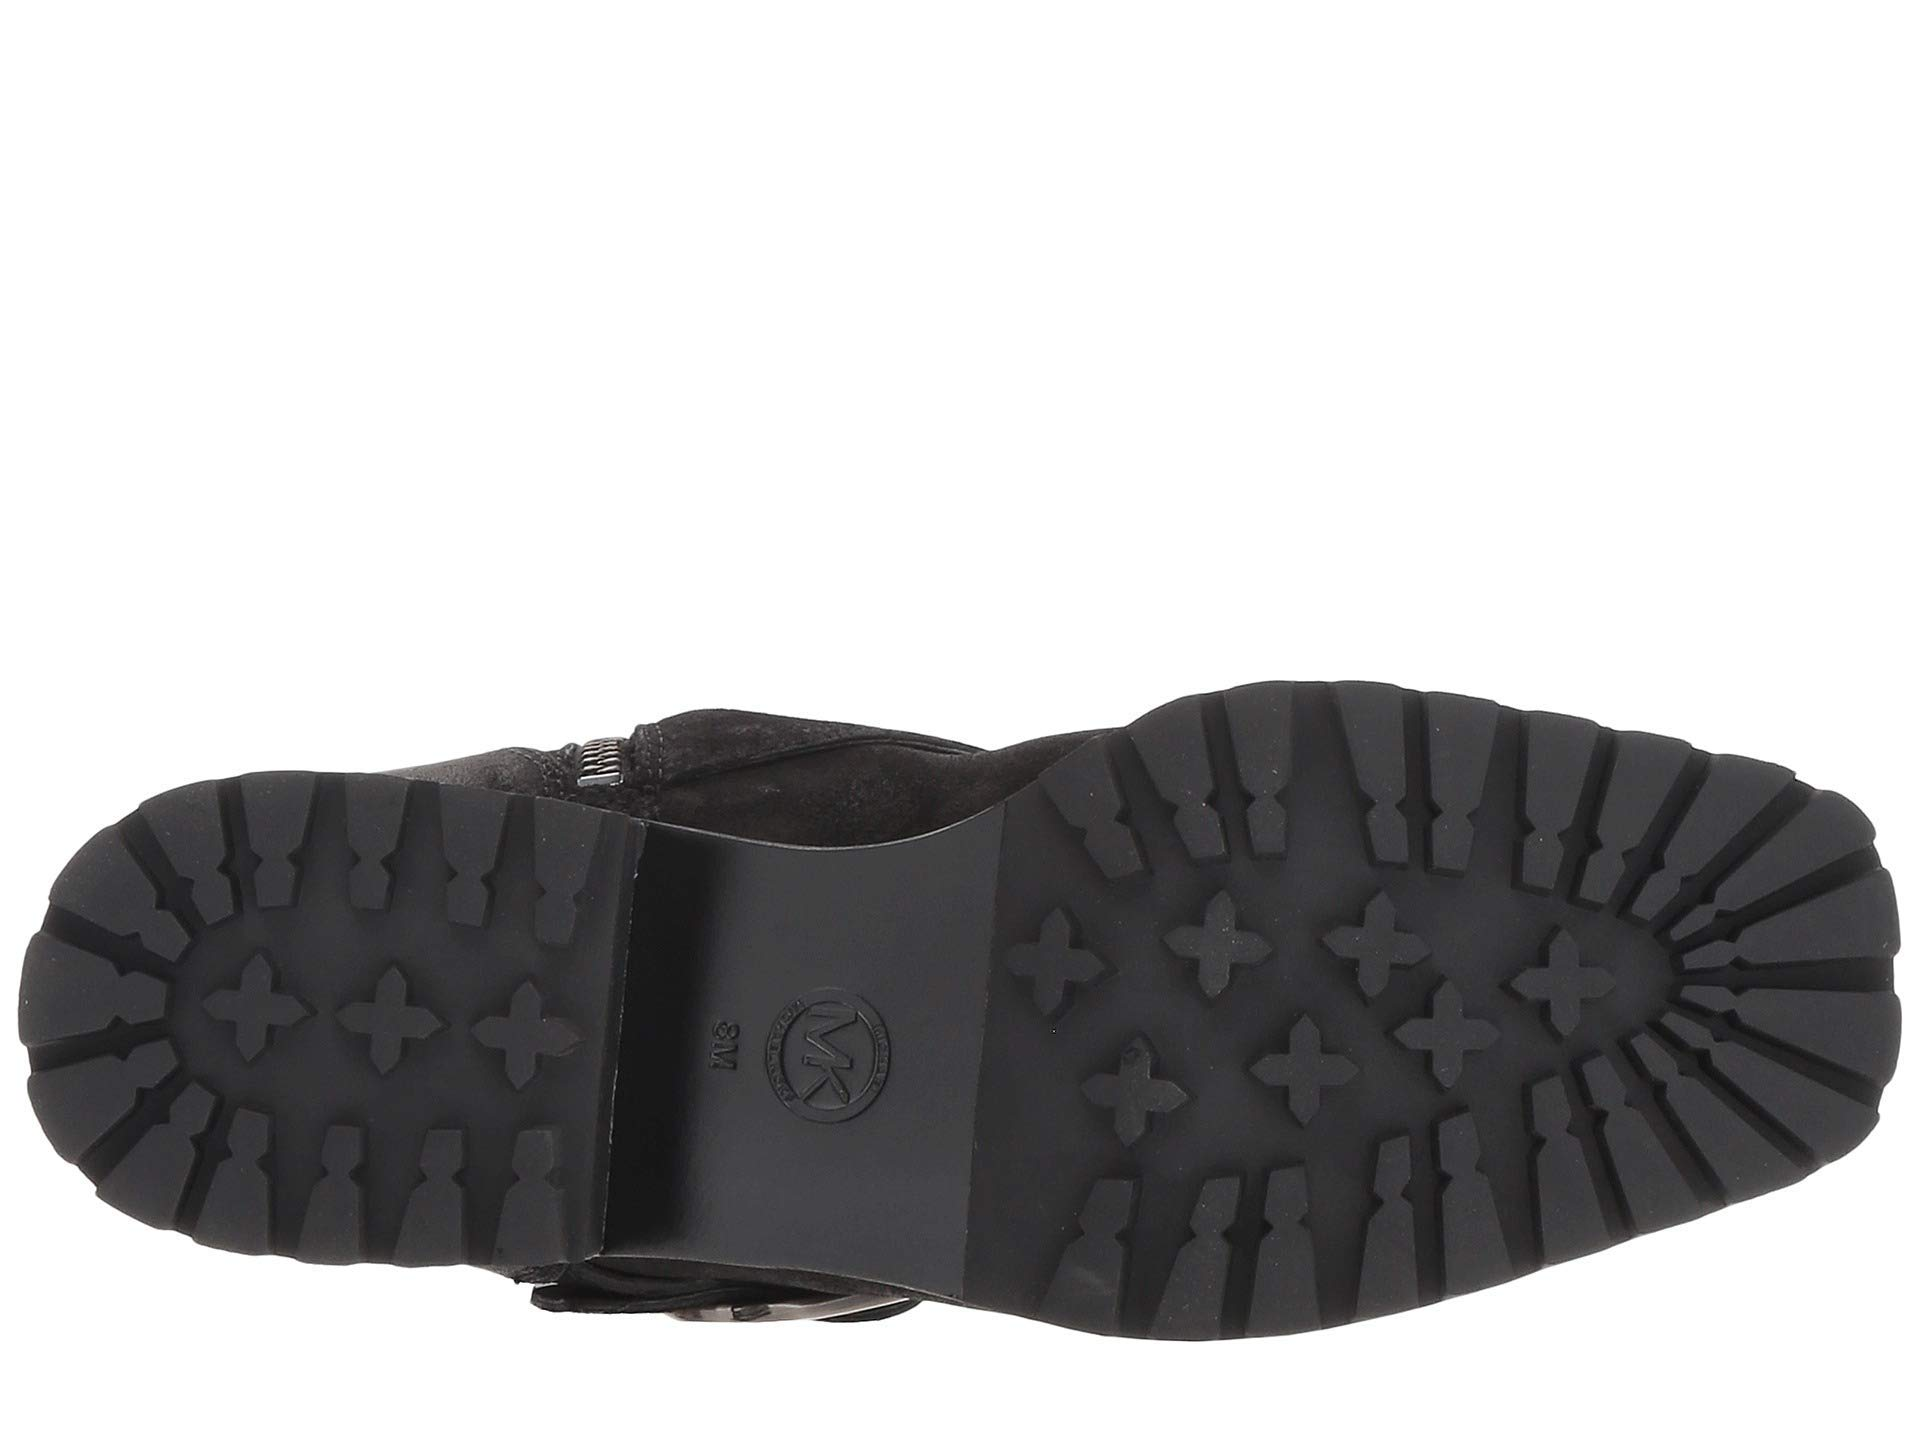bowtie: (1606, 812, 1900, 1174), (290, 1109, 587, 1268), (1181, 1162, 1356, 1351), (1126, 685, 1312, 849), (144, 781, 325, 921), (1054, 1165, 1149, 1342)
circle: (691, 953, 915, 1136)
exclude: (603, 799, 1016, 1302)
other: (996, 883, 1652, 1153)
star: (996, 883, 1652, 1153), (172, 945, 608, 1097)
text: (691, 953, 915, 1136)
